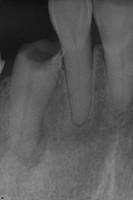Furcation Involvement: (15, 118, 49, 169)
